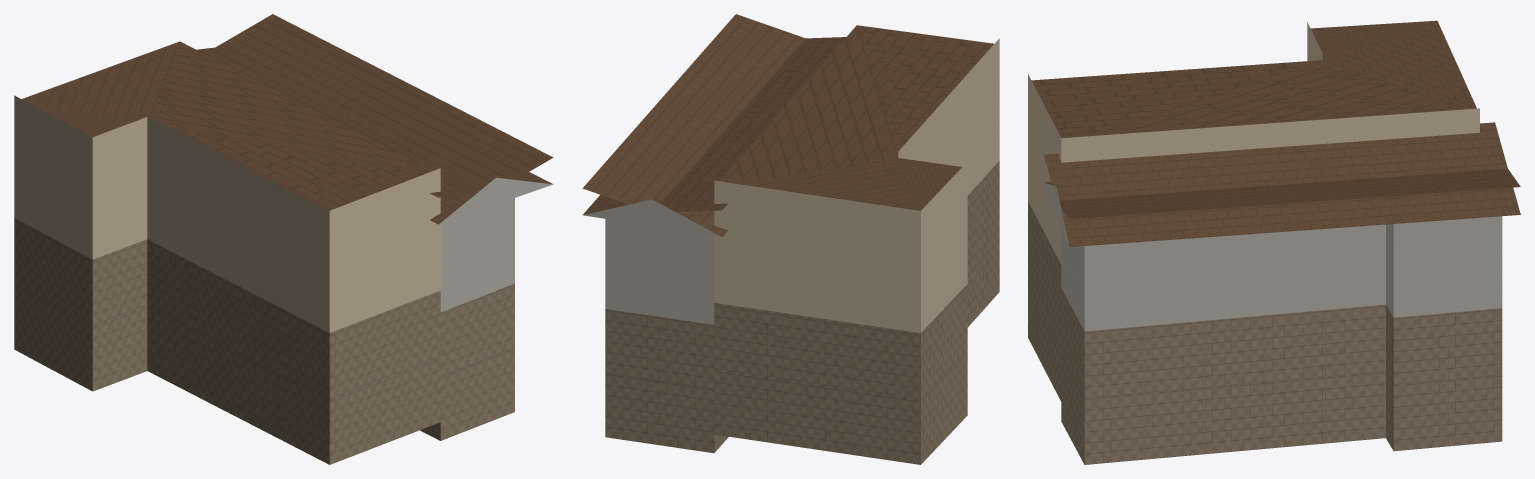
File: bld_c32_44_246.gltf
3 views of the same model, side by side, from view 1: azimuth 30°, elevation 25°; view 2: azimuth 150°, elevation 25°; view 3: azimuth 270°, elevation 25° (orthographic). The views are drawn at different scales.
Parts seen in each view (by area): view 1: bld_c32_44_246; view 2: bld_c32_44_246; view 3: bld_c32_44_246.
Boxes of the visible parts, left/top/right/bottom form: bld_c32_44_246: left=14, top=14, right=553, bottom=464; bld_c32_44_246: left=582, top=14, right=999, bottom=464; bld_c32_44_246: left=1028, top=20, right=1520, bottom=464.
Size of the model in its own units: 14.14 by 10.18 by 16.04.
6 materials, 6 textured.
